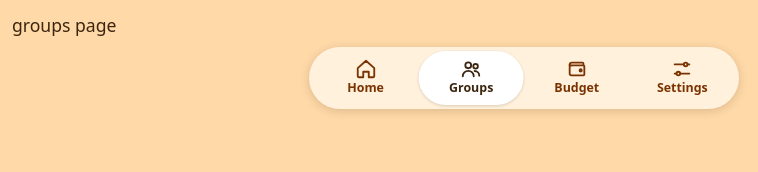
BottomBarLayout › keeps the bar and changes the page when a tab is pressed
Click the link "Settings" at (682, 77), box left=657, top=58, right=708, bottom=96
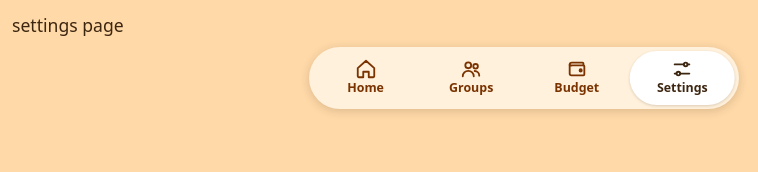
Result: the text "settings page" is shown at left=12, top=13, right=124, bottom=37
